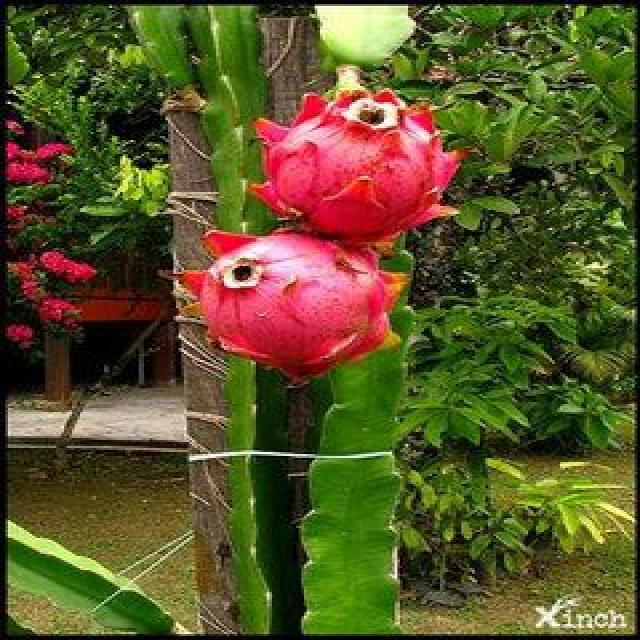Thanh Long: (170, 216, 410, 373), (253, 88, 459, 240)
